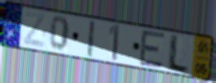0: (49, 15, 71, 53)
1: (108, 23, 121, 63)
E: (138, 29, 167, 71)
I: (86, 19, 97, 59)
L: (166, 34, 191, 76)
Z: (22, 10, 48, 50)
